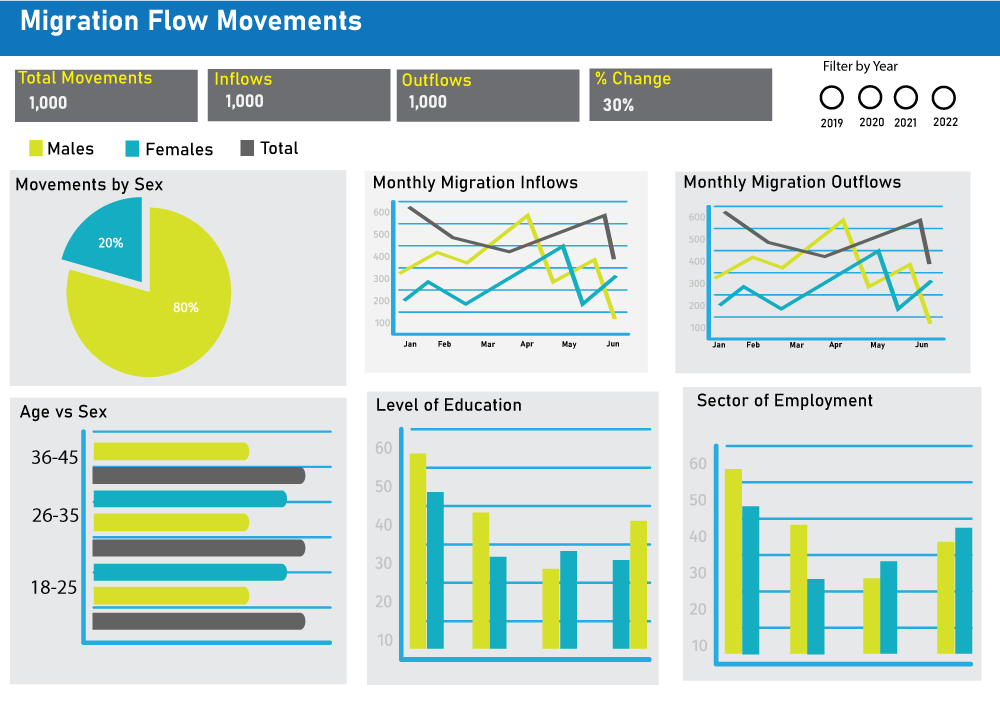

What the dashboard file says about the page in this screenshot:
{"tool":"tableau","page":{"name":"Migration Dashboard","canvas":[1000,1000],"units":"permille","ordinal":0},"visuals":[{"type":"blank","box":[3.9,5.3,993.8,56.4]},{"type":"text","box":[4.6,5.3,995.1,54.8]},{"type":"text","box":[689.5,59.3,147.3,35.9]},{"type":"blank","box":[843.3,65.3,136.7,167.5]},{"type":"text","box":[851.2,68,125.8,43.5]},{"type":"worksheet","title":"Inflows","mark":"Automatic","box":[219.8,69,210.2,112.2]},{"type":"worksheet","title":"Outflows","mark":"Automatic","box":[435.9,69,210.2,112.2]},{"type":"worksheet","title":"Total Movements","mark":"Automatic","box":[4.6,70.1,210.2,112.2]},{"type":"filter","title":"Age by Sex","param":"[federated.181xkwa0fliwrh1bv8cka1du9xg9].[yr:Survey_Date:ok]","box":[688.9,98.9,149.8,134.7]},{"type":"filter","title":"Inflow Trend","param":"[federated.181xkwa0fliwrh1bv8cka1du9xg9].[mn:Survey_Date:ok]","box":[851.2,111.5,125.8,76.9]},{"type":"worksheet","title":"Inflow Trend","mark":"Automatic","rows":["Total_Individuals Observed","Female","Male"],"cols":["Survey_Date"],"box":[6.2,239.7,309,301.9]},{"type":"worksheet","title":"Outflow Trend","mark":"Automatic","rows":["Total_Individuals Observed","Female","Male"],"cols":["Survey_Date"],"box":[320.7,243.9,328.6,300.3]},{"type":"worksheet","title":"Flow of Movements by Age","mark":"Automatic","rows":["Age"],"cols":["Age (bin)"],"box":[657.5,247.6,316.4,300.3]},{"type":"legend","title":"Flow of Movements by Age","param":"[federated.181xkwa0fliwrh1bv8cka1du9xg9].[none:Flow_type_incoming_outgoing:nk]","box":[877.5,330,92.1,111.2]},{"type":"text","box":[7.2,563.8,82.8,24.8]},{"type":"worksheet","title":"Level of Education","mark":"Automatic","rows":["What is your highest level of completed education"],"cols":["Movements_AF791ECDCBF746E58B63932747ECC445"],"box":[446.4,590.1,271,331.4]},{"type":"worksheet","title":"Movements by Sex","mark":"Pie","box":[5.3,590.6,161.3,327.7]},{"type":"worksheet","title":"Age by Sex","mark":"Automatic","rows":["AgeGroup"],"cols":["Movements_AF791ECDCBF746E58B63932747ECC445"],"box":[171.2,591.1,271,329.8]},{"type":"worksheet","title":"Employment Sector by Sex","mark":"Automatic","rows":["In which sector are you employed in country of usual residen"],"cols":["Movements_AF791ECDCBF746E58B63932747ECC445"],"box":[720.4,591.7,271,328.2]},{"type":"text","box":[9.7,674.9,152.2,22.2]}]}

Visuals, with their boxes on the dashboard's canvas, which has no fixed pixel size, in thousandths of its width and height (x1, y1, x2, y2). These are canvas units, not pixel positions in the 1000x707 screenshot, which may show the page scaled, cropped or inside an application window:
blank: (x1=4, y1=5, x2=998, y2=62)
text: (x1=5, y1=5, x2=1000, y2=60)
text: (x1=690, y1=59, x2=837, y2=95)
blank: (x1=843, y1=65, x2=980, y2=233)
text: (x1=851, y1=68, x2=977, y2=112)
"Inflows" worksheet: (x1=220, y1=69, x2=430, y2=181)
"Outflows" worksheet: (x1=436, y1=69, x2=646, y2=181)
"Total Movements" worksheet: (x1=5, y1=70, x2=215, y2=182)
"Age by Sex" filter: (x1=689, y1=99, x2=839, y2=234)
"Inflow Trend" filter: (x1=851, y1=112, x2=977, y2=188)
"Inflow Trend" worksheet: (x1=6, y1=240, x2=315, y2=542)
"Outflow Trend" worksheet: (x1=321, y1=244, x2=649, y2=544)
"Flow of Movements by Age" worksheet: (x1=658, y1=248, x2=974, y2=548)
"Flow of Movements by Age" legend: (x1=878, y1=330, x2=970, y2=441)
text: (x1=7, y1=564, x2=90, y2=589)
"Level of Education" worksheet: (x1=446, y1=590, x2=717, y2=922)
"Movements by Sex" worksheet (Pie marks): (x1=5, y1=591, x2=167, y2=918)
"Age by Sex" worksheet: (x1=171, y1=591, x2=442, y2=921)
"Employment Sector by Sex" worksheet: (x1=720, y1=592, x2=991, y2=920)
text: (x1=10, y1=675, x2=162, y2=697)
